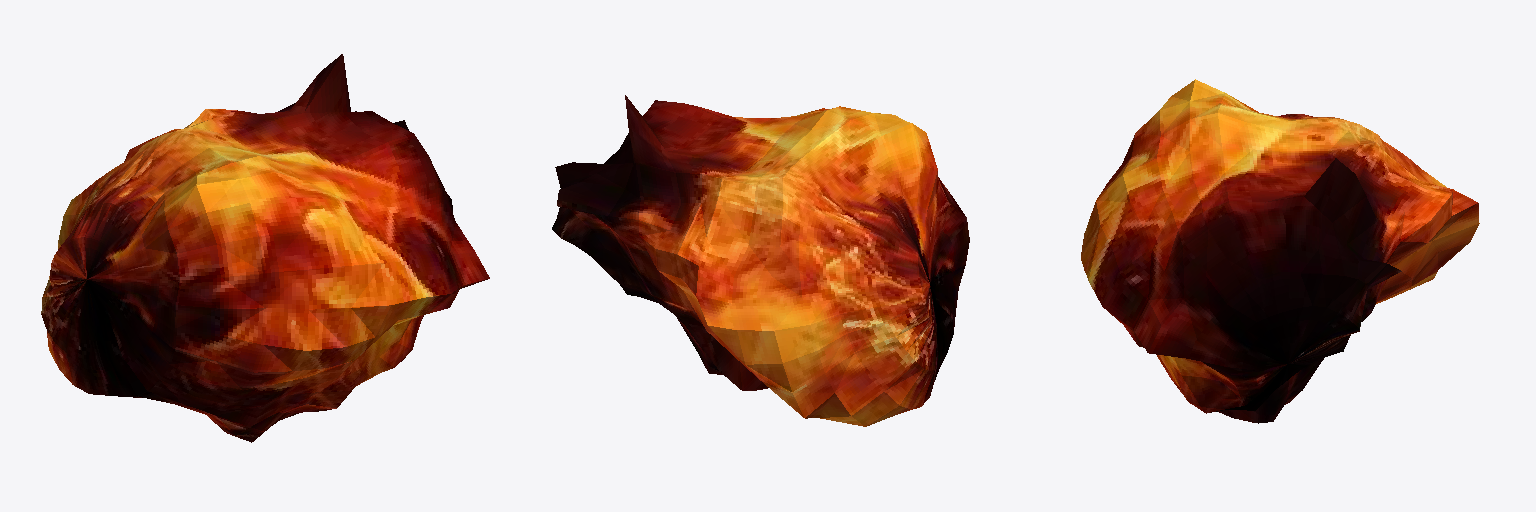
3 renders of one model, left to right at view 1: azimuth 30°, elevation 25°; view 2: azimuth 150°, elevation 25°; view 3: azimuth 270°, elevation 25°, orthographic.
Visible parts, largest first — view 1: 球.006; view 2: 球.006; view 3: 球.006.
Boxes of the visible parts, <box> form: 球.006: <box>41,54,489,442</box>; 球.006: <box>552,95,969,426</box>; 球.006: <box>1081,79,1479,423</box>.
Bounding box in the file's own units: 0.1752 × 0.1413 × 0.1656.
1 materials, 1 textured.